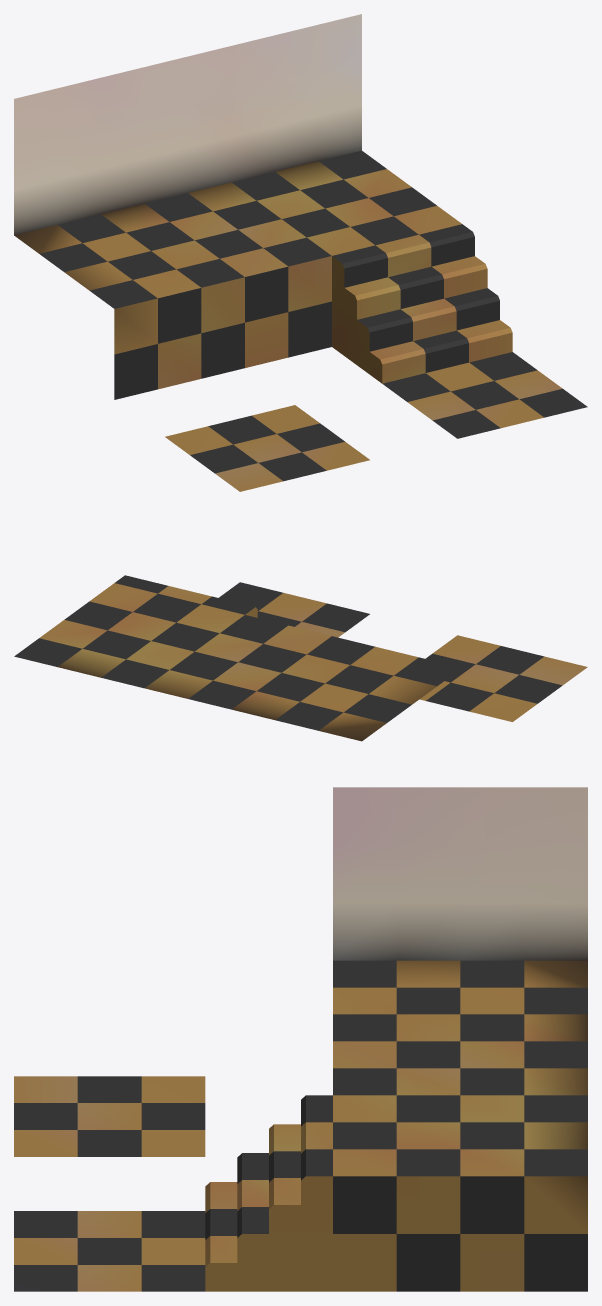
File: sceneB.glb
The picture shows the model from 3 angles, top to bottom: view 1: azimuth 30°, elevation 25°; view 2: azimuth 150°, elevation 25°; view 3: azimuth 270°, elevation 25°; orthographic projection. The views are drawn at different scales.
Visible parts, largest first — view 1: MapB; view 2: MapB; view 3: MapB.
Part boxes in pixels (x1=…): MapB: x1=14, y1=14, x2=587, y2=491; MapB: x1=14, y1=575, x2=587, y2=741; MapB: x1=14, y1=787, x2=587, y2=1291.
Size of the model in its own units: 16 by 10 by 18.
